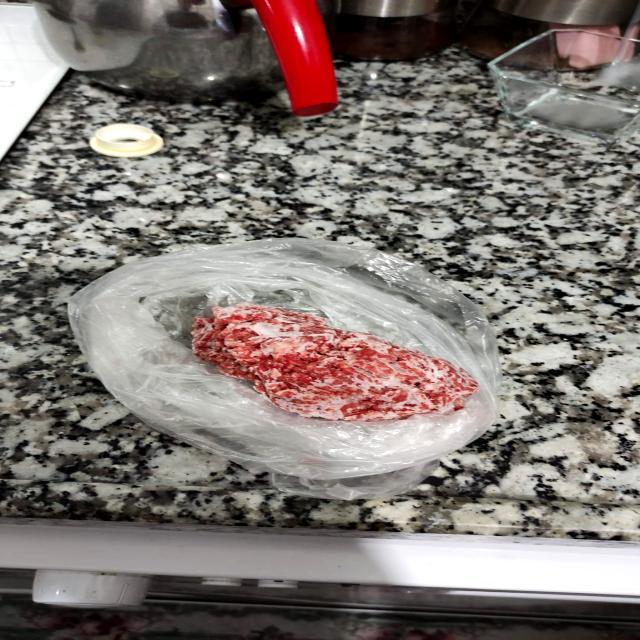ground meat: (174, 290, 488, 432)
